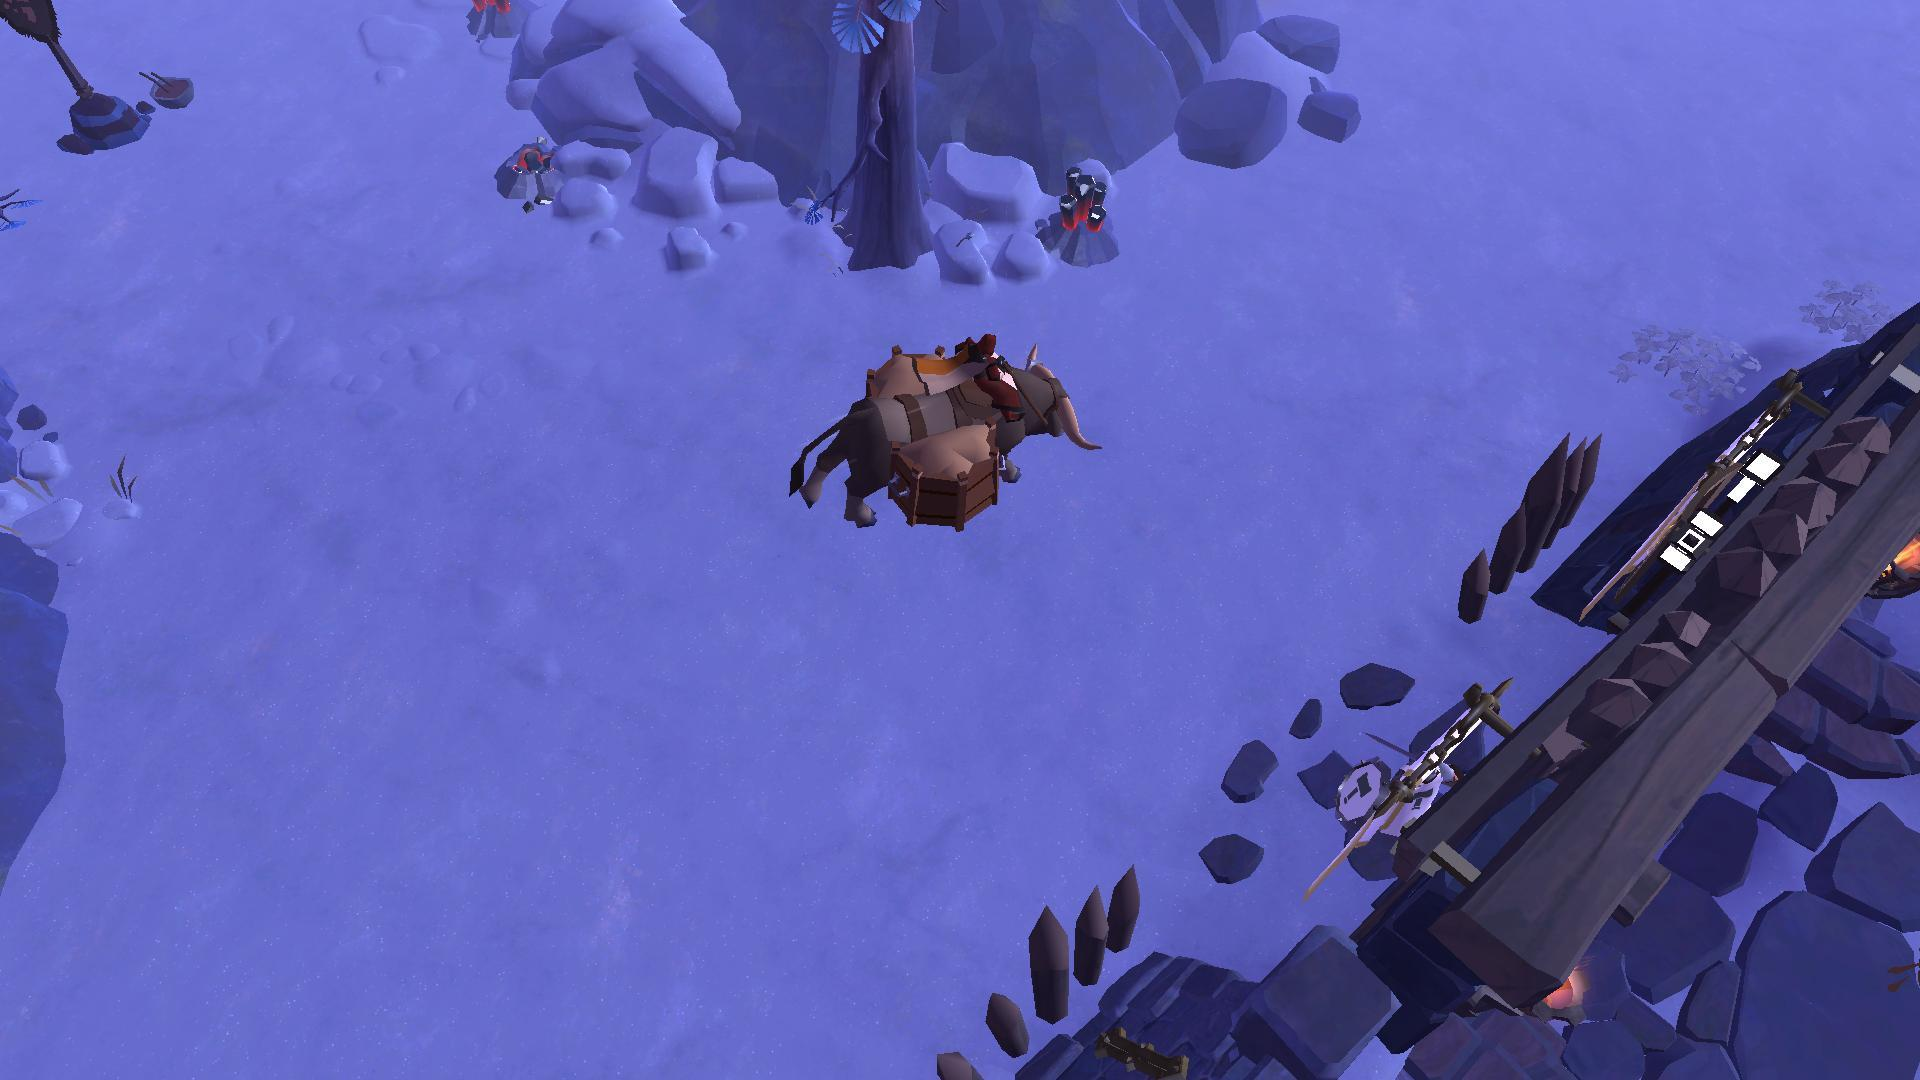ore_t5: (1056, 160, 1114, 239)
